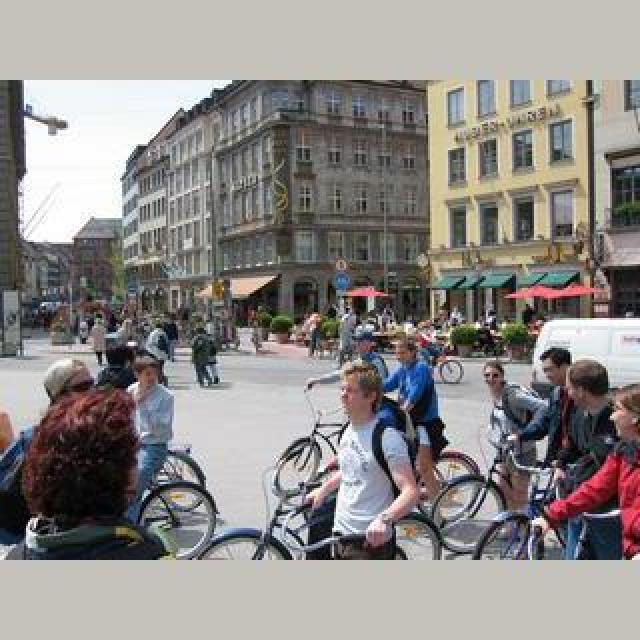MC-Bike: (18, 370, 148, 556), (318, 364, 422, 554), (544, 380, 640, 554), (478, 362, 552, 500), (382, 334, 444, 498), (126, 352, 176, 504)
Person: (204, 468, 446, 560), (432, 422, 566, 550), (472, 460, 638, 558), (270, 380, 346, 504), (418, 344, 466, 386)
